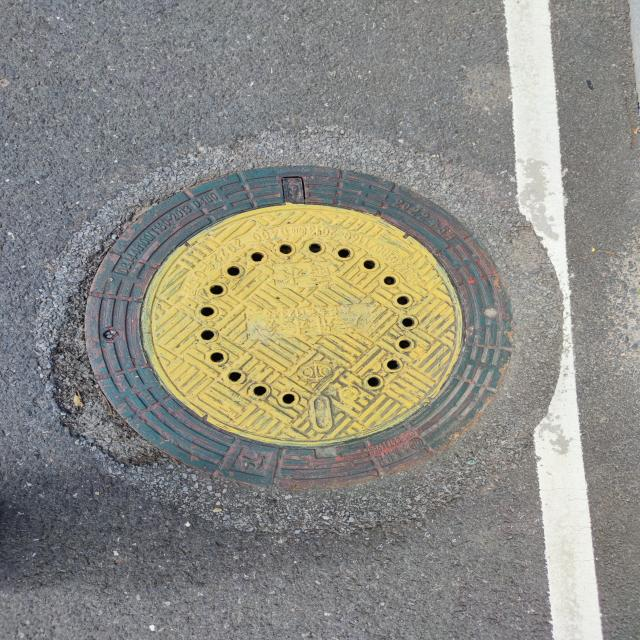Good: (76, 162, 518, 499)
